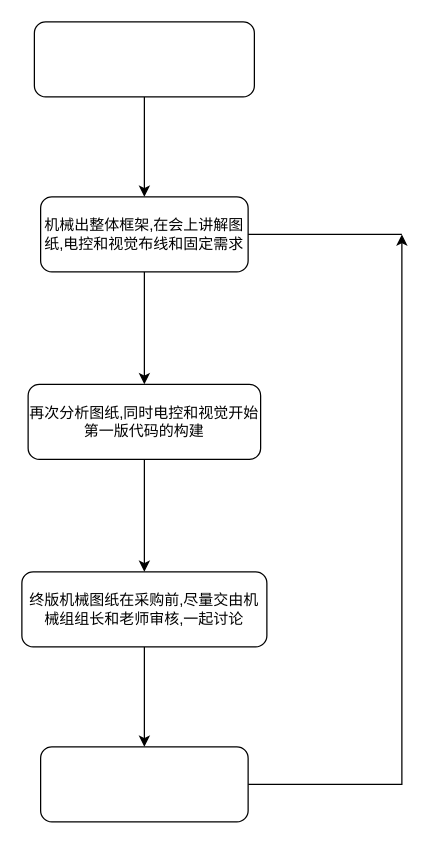
Some shapes in this 434 by 844 pixel diagram are drawn without their labels. Here are the shapes that lost their labels. From the top down, the centre of each, then its label:
At pixel 143 59: "审视规则,分析功能,组内讨论".
At pixel 143 784: "机械分模块购买并搭建,同时电控按模块进行调试".
